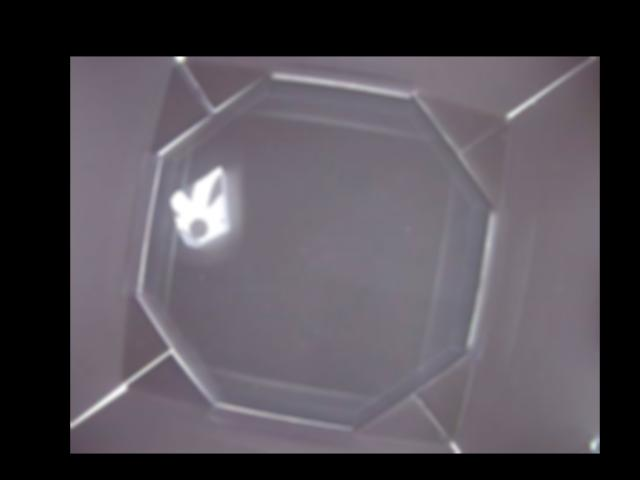China: (167, 165, 230, 244)
